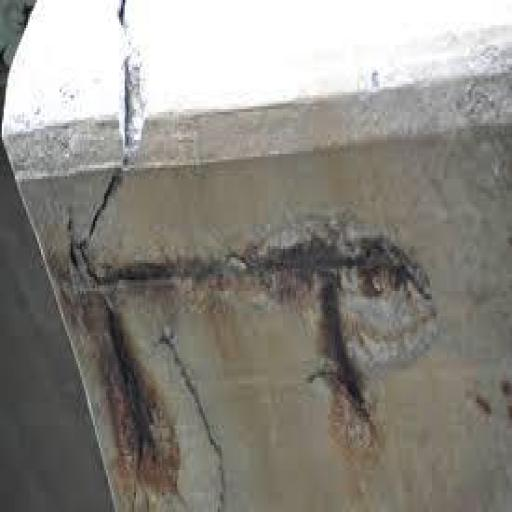spalling: (102, 215, 433, 443), (84, 2, 151, 238), (89, 307, 174, 486), (163, 335, 231, 506)
